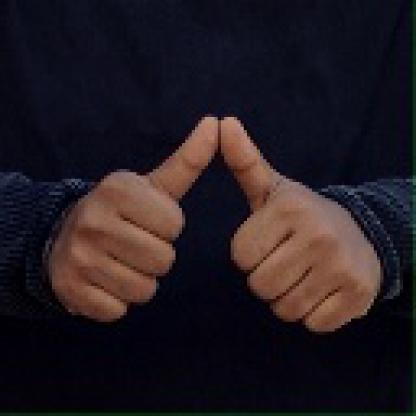A: (44, 115, 380, 335)
